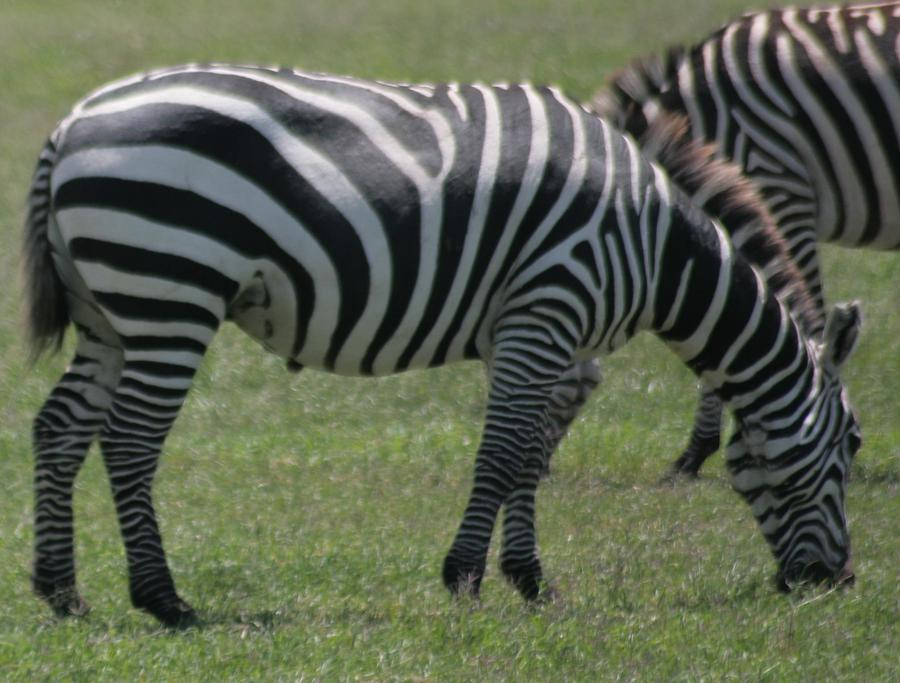zebra_plains: (62, 47, 624, 383)
